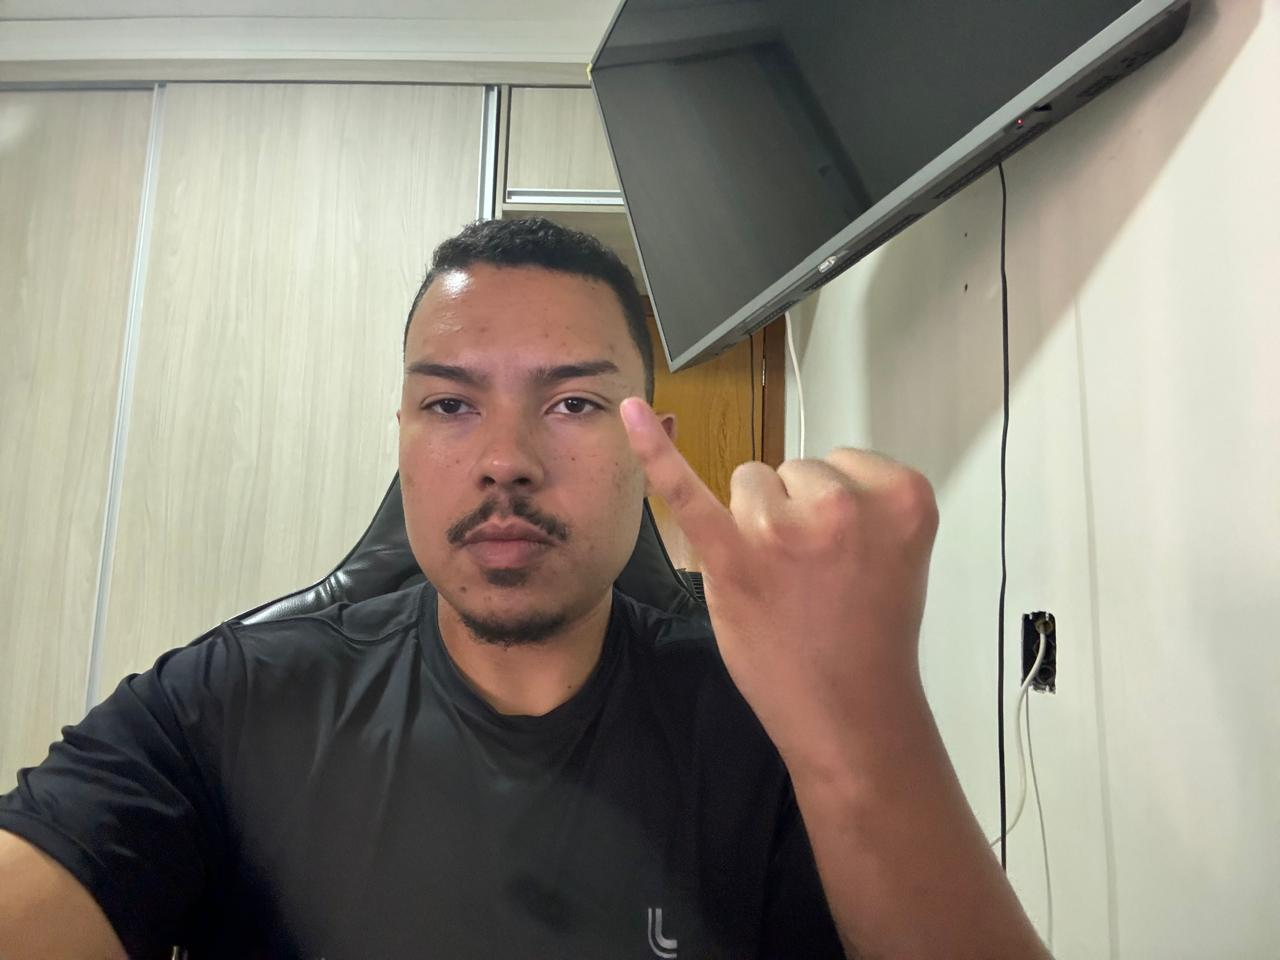j: (608, 384, 962, 734)
